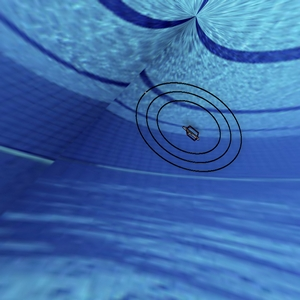circle: (118, 59, 252, 180)
submarine: (176, 117, 206, 143)
